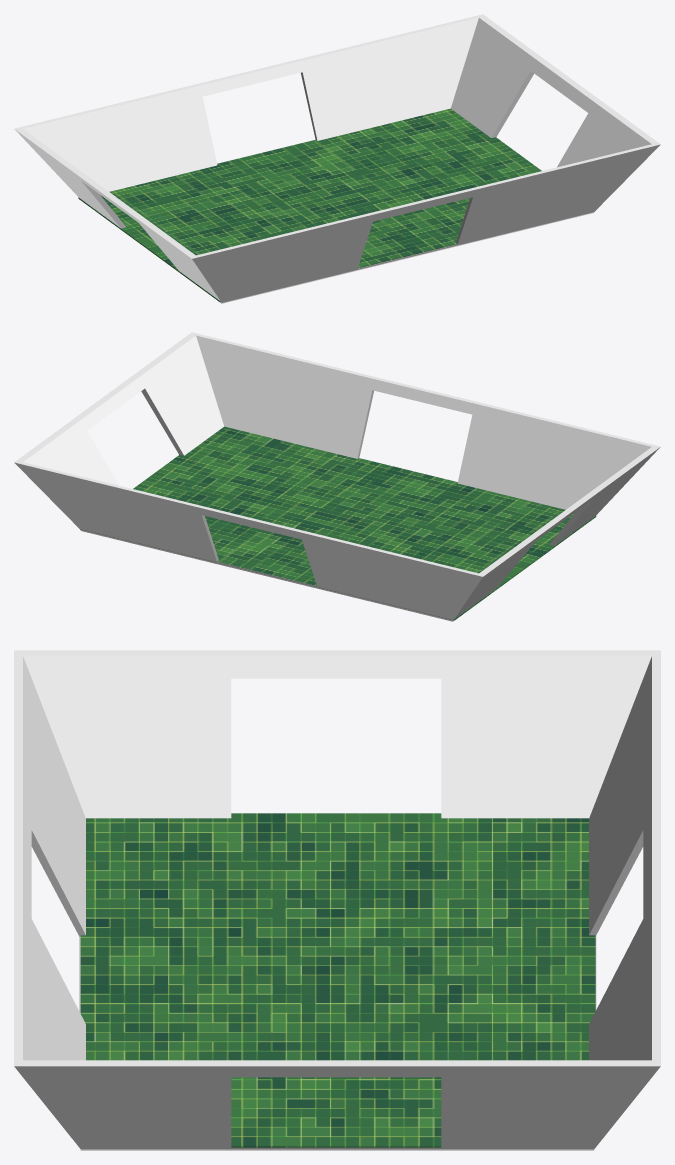
Rendered from Room2.obj.
3 renders of one model, top to bottom at view 1: azimuth 30°, elevation 25°; view 2: azimuth 150°, elevation 25°; view 3: azimuth 270°, elevation 25°, orthographic. The views are drawn at different scales.
Parts seen in each view (by area): view 1: Room2, Piso1; view 2: Room2, Piso1; view 3: Room2, Piso1.
Part boxes in pixels (x1=…): Room2: x1=14, y1=14, x2=660, y2=303; Piso1: x1=78, y1=108, x2=541, y2=302; Room2: x1=14, y1=332, x2=660, y2=621; Piso1: x1=80, y1=426, x2=596, y2=620; Room2: x1=14, y1=650, x2=660, y2=1150; Piso1: x1=80, y1=813, x2=595, y2=1147.
Bounding box in the file's own units: 35 × 5 × 23.
